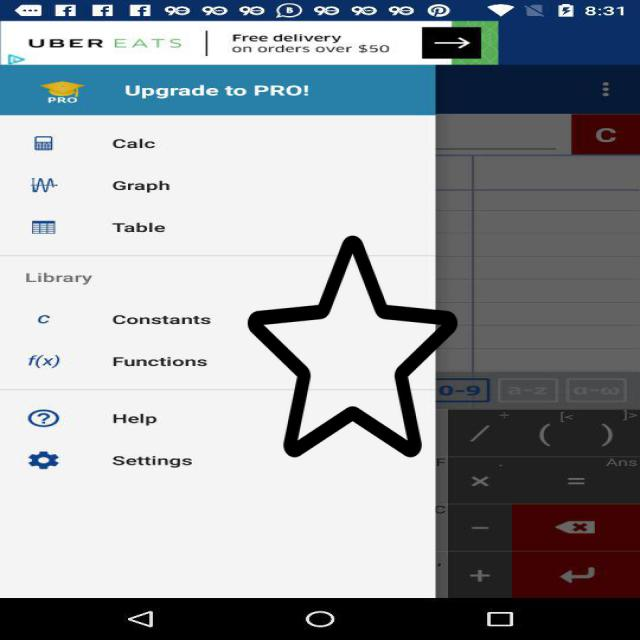forced continuity: (248, 231, 458, 462)
